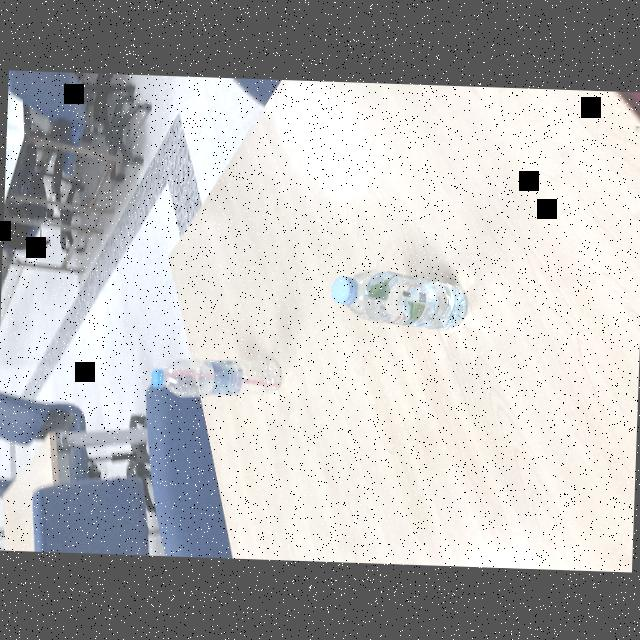plastic_bottle: (326, 265, 472, 330), (144, 346, 286, 406)
plastic_bottle_cap: (330, 274, 358, 304), (150, 368, 164, 387)
straw: (165, 368, 279, 386)
